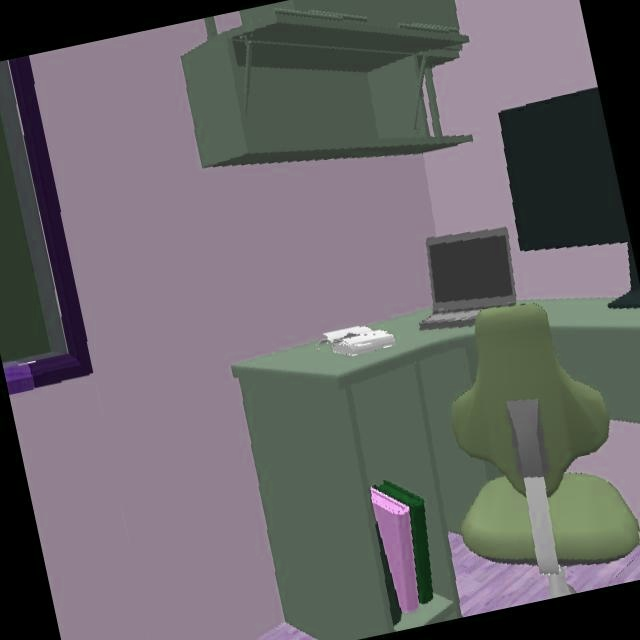book: (370, 480, 434, 612), (318, 325, 396, 356)
cabinet: (181, 0, 471, 167)
chair: (452, 304, 640, 594)
laptop: (420, 226, 516, 328)
monitor: (499, 88, 640, 308)
table: (232, 309, 501, 640), (539, 298, 640, 423)
